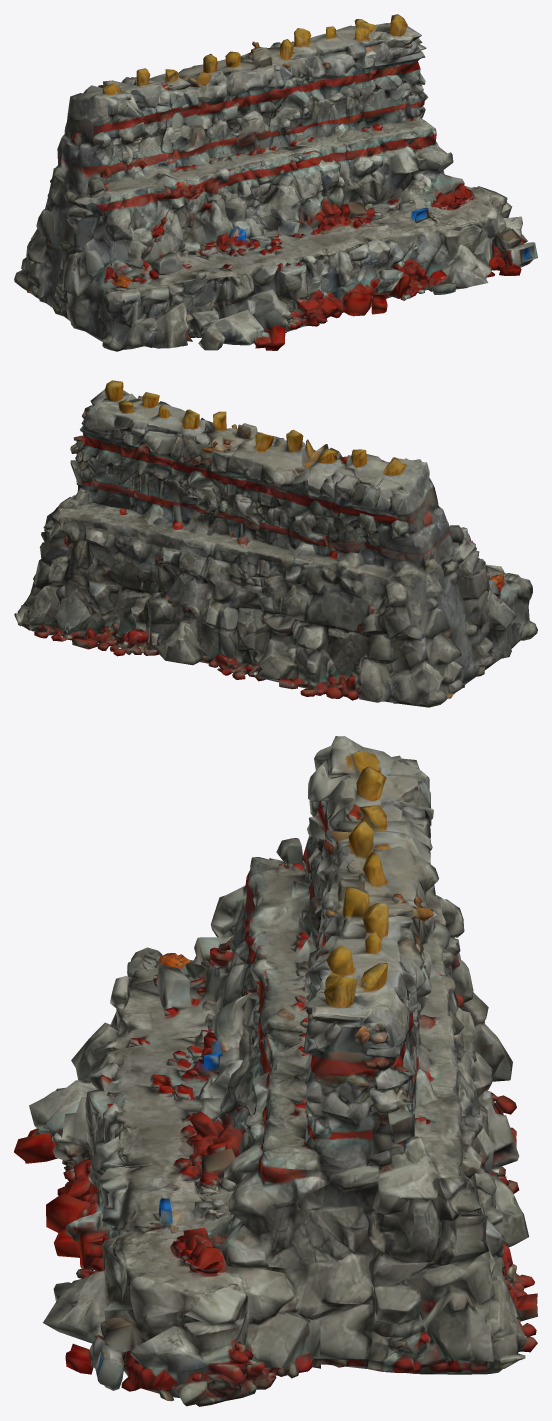
The model's file is ore-bench.glb.
The picture shows the model from 3 angles, top to bottom: view 1: azimuth 30°, elevation 25°; view 2: azimuth 150°, elevation 25°; view 3: azimuth 270°, elevation 25°; orthographic projection. The views are drawn at different scales.
Visible parts, largest first — view 1: tripo_node_f74c83d0-89c0-4eb2-9208-06b7eecbf85c; view 2: tripo_node_f74c83d0-89c0-4eb2-9208-06b7eecbf85c; view 3: tripo_node_f74c83d0-89c0-4eb2-9208-06b7eecbf85c.
Boxes of the visible parts, x1,y1,x2,y2 form: tripo_node_f74c83d0-89c0-4eb2-9208-06b7eecbf85c: (14, 14, 537, 351); tripo_node_f74c83d0-89c0-4eb2-9208-06b7eecbf85c: (14, 380, 537, 707); tripo_node_f74c83d0-89c0-4eb2-9208-06b7eecbf85c: (14, 736, 537, 1406).
Size of the model in its own units: 0.9548 by 0.447 by 0.5776.
1 material, 1 textured.
